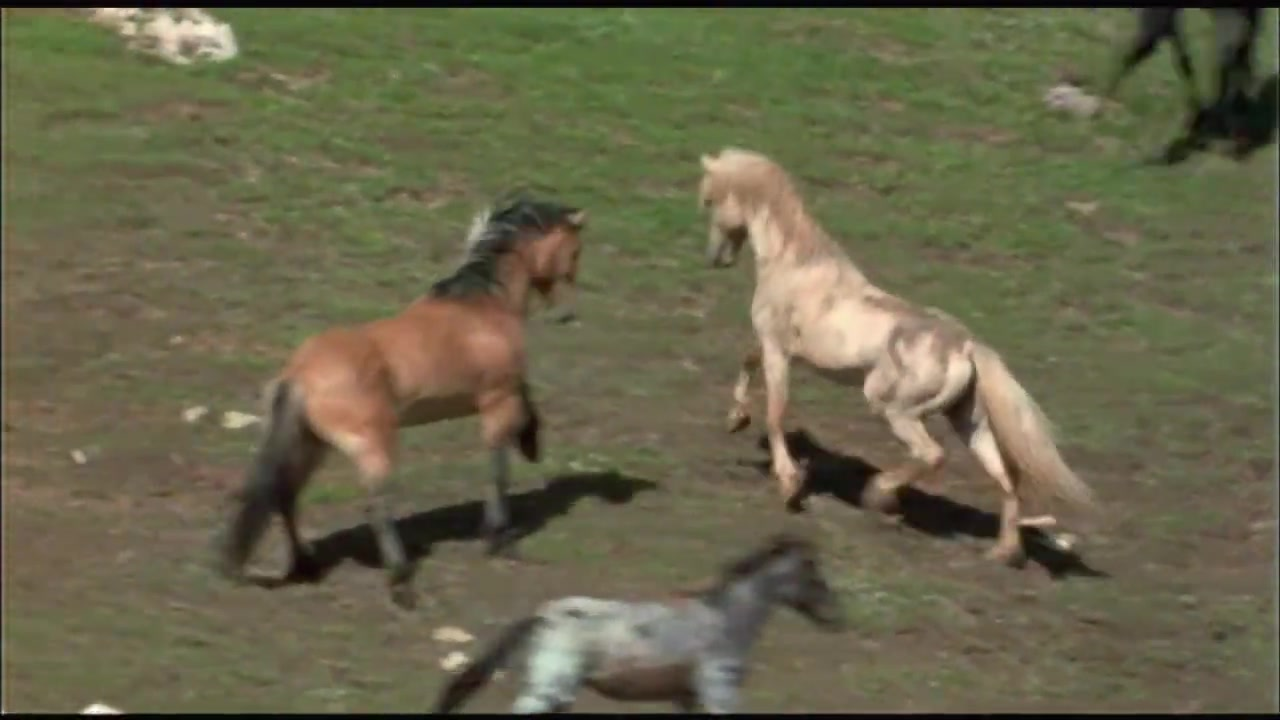horse: (219, 196, 592, 604)
